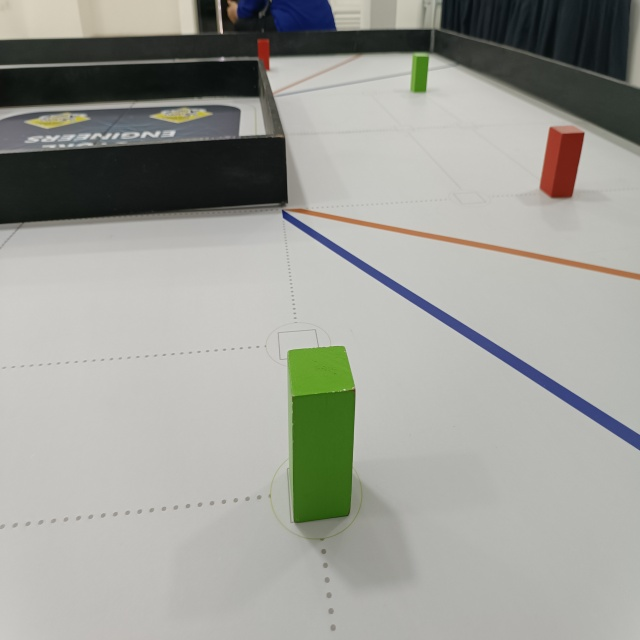blue line: (275, 211, 640, 458), (271, 61, 460, 100)
green rectangular prism: (283, 343, 360, 528), (408, 55, 433, 95)
orange line: (292, 199, 640, 287), (266, 50, 370, 103)
red rectangular prism: (541, 123, 587, 203), (254, 35, 272, 72)
